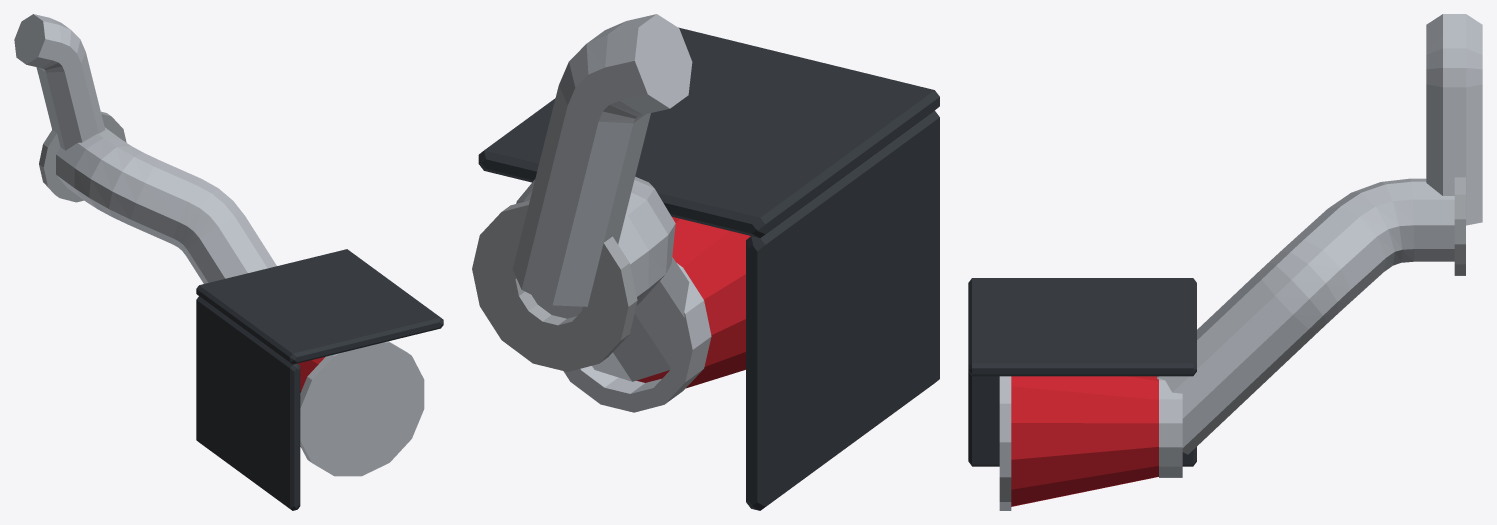
The model's file is hana_roadster.glb.
3 views of the same model, side by side, from view 1: azimuth 30°, elevation 25°; view 2: azimuth 150°, elevation 25°; view 3: azimuth 270°, elevation 25° (orthographic). The views are drawn at different scales.
Parts seen in each view (by area): view 1: model; view 2: model; view 3: model.
Boxes of the visible parts, <box> form: model: <box>14,14,443,510</box>; model: <box>472,14,939,510</box>; model: <box>968,14,1482,510</box>.
Size of the model in its own units: 0.3121 by 0.4869 by 0.5396.
Materials: 2 (1 with a texture image).
